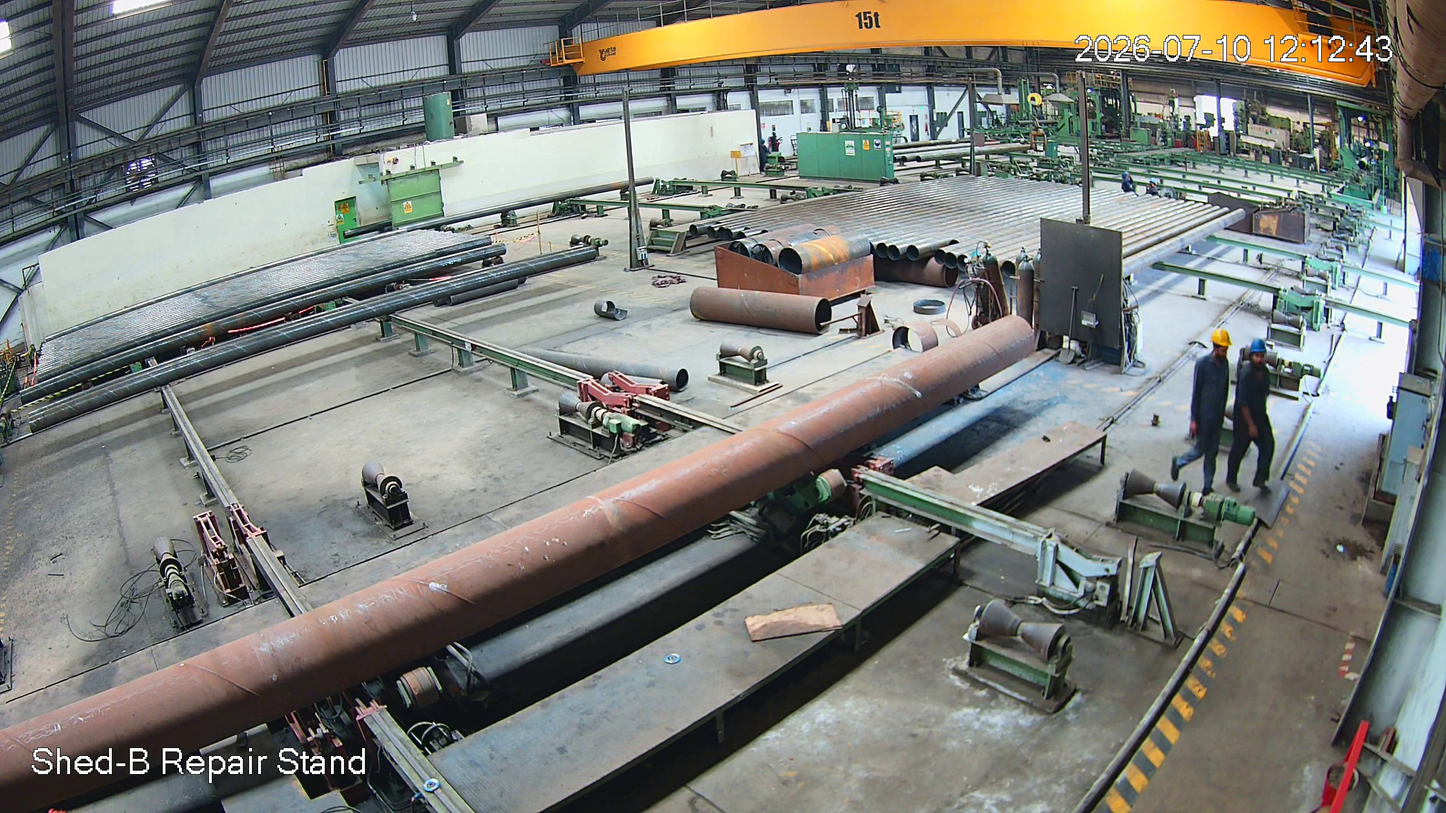Helmet: (1206, 325, 1235, 368), (1248, 336, 1270, 373)
Person: (1175, 328, 1235, 501), (1236, 339, 1283, 494)
